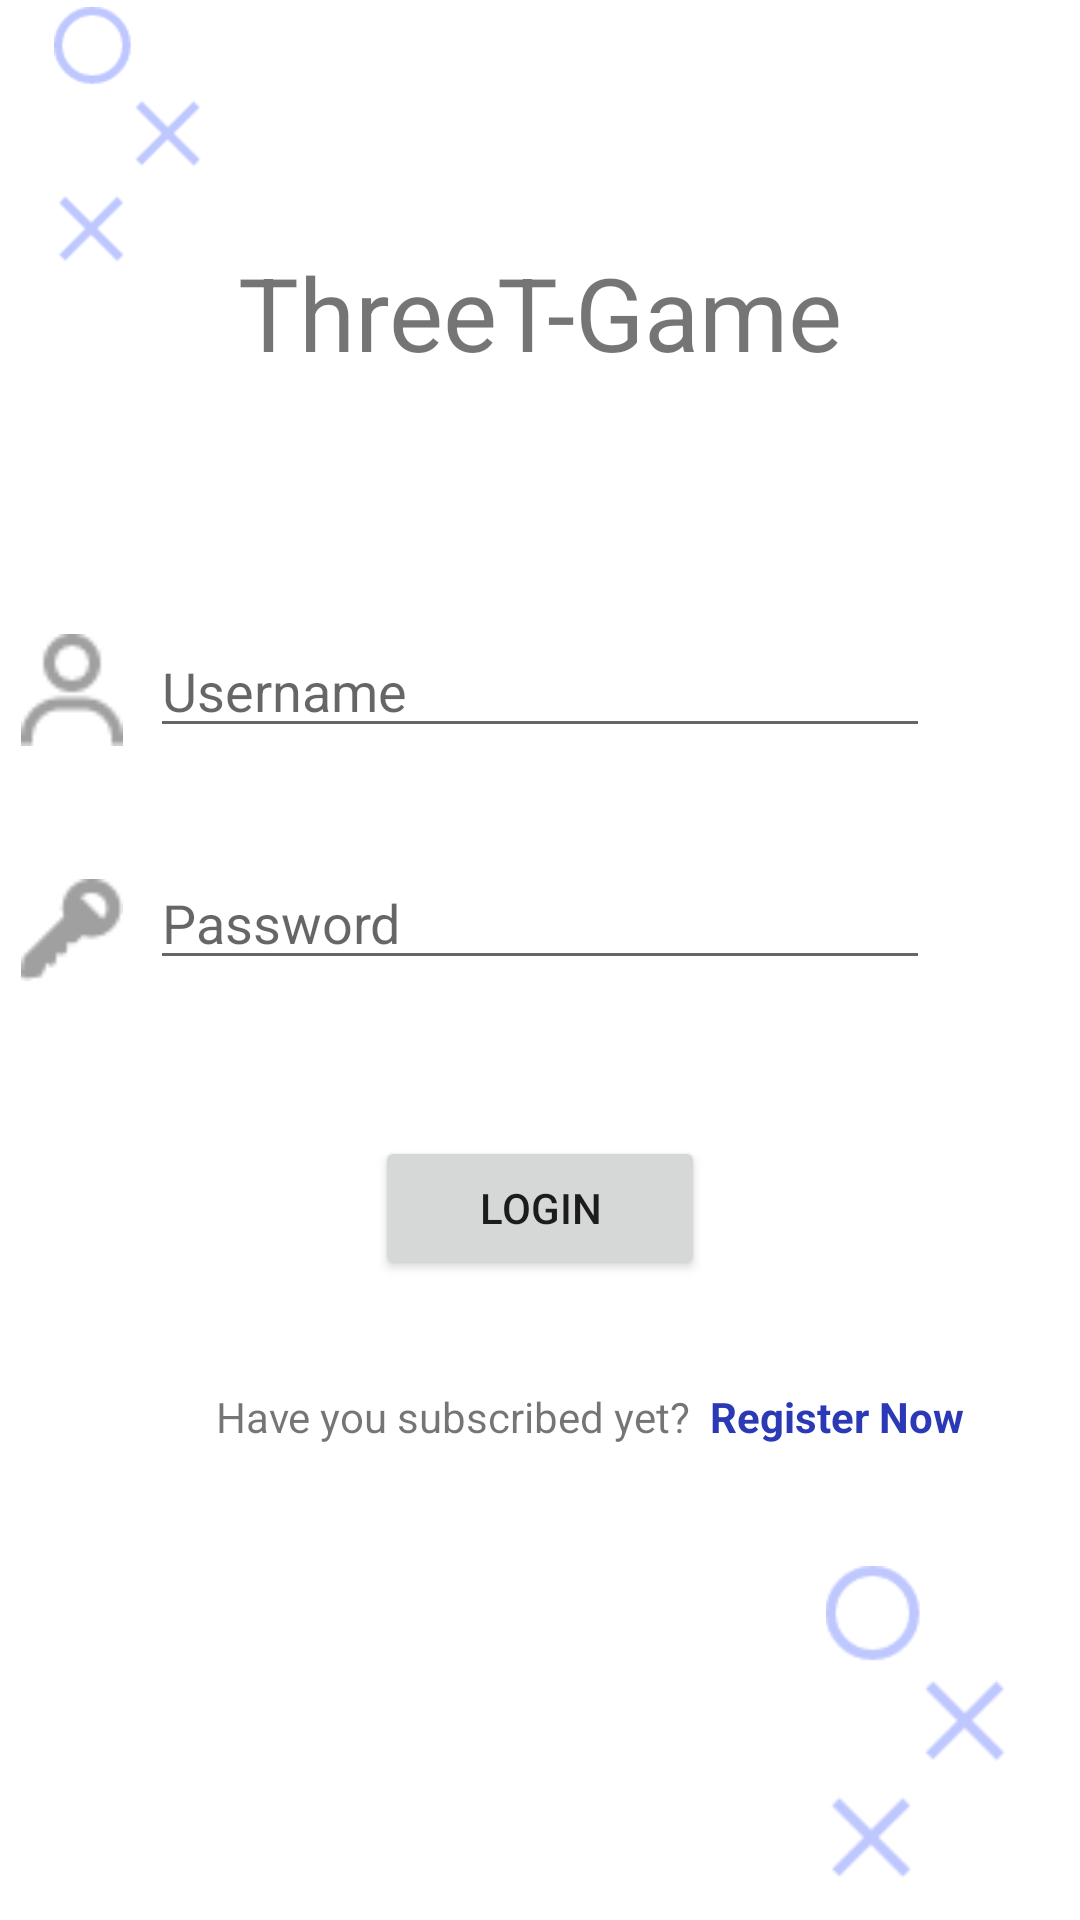

Screen size 1080w x 1920h. Icon name, then its box in pixels as bbox=(x1, y1, x2, y2):
key: bbox=(21, 879, 121, 979)
